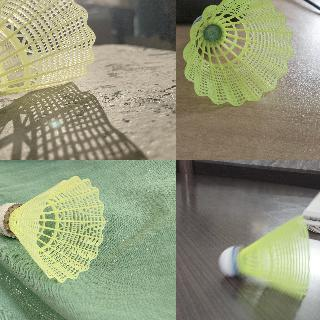shuttlecock: (0, 0, 96, 129), (184, 0, 293, 108), (0, 175, 105, 282), (218, 216, 308, 300)
